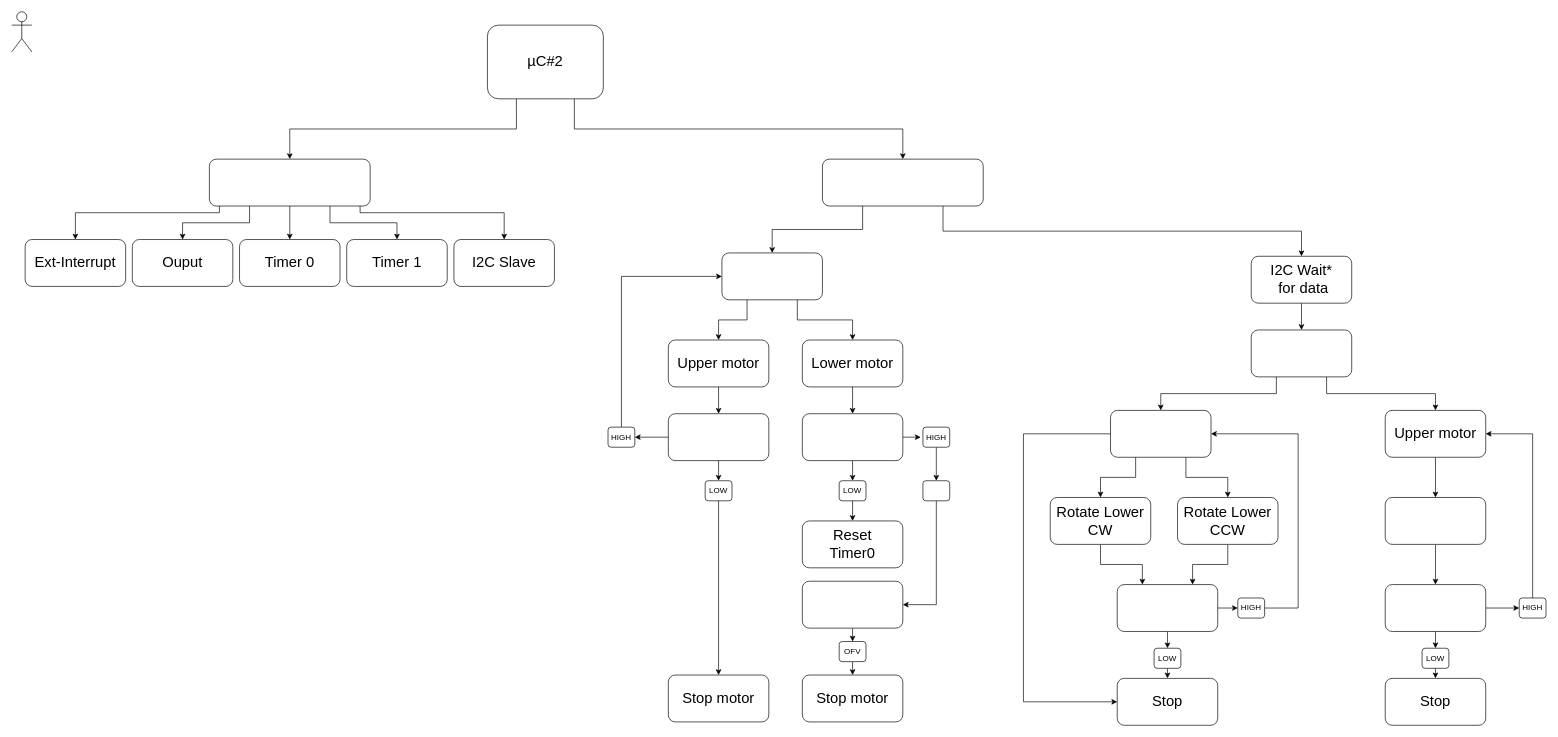
Some shapes in this 1558 by 737 pixel diagram are drawn without their labels. Each missing label, with the box of its shape:
Bob: (11, 11, 32, 52)
Compare Data: (1251, 329, 1352, 377)
External Interrupt 1: (1385, 584, 1486, 631)
External Interrupt 2: (1117, 584, 1218, 631)
External* Interrupt 1: (668, 413, 769, 461)
External* Interrupt 2: (802, 413, 903, 461)
HW INIT: (209, 158, 370, 206)
Lower motor*: (1110, 410, 1211, 457)
Rotate: (721, 252, 822, 300)
Rotate Upper CW: (1385, 497, 1486, 544)
Start: (822, 158, 983, 206)
TIME: (922, 480, 950, 501)
Timer0 Counter: (802, 581, 903, 628)
